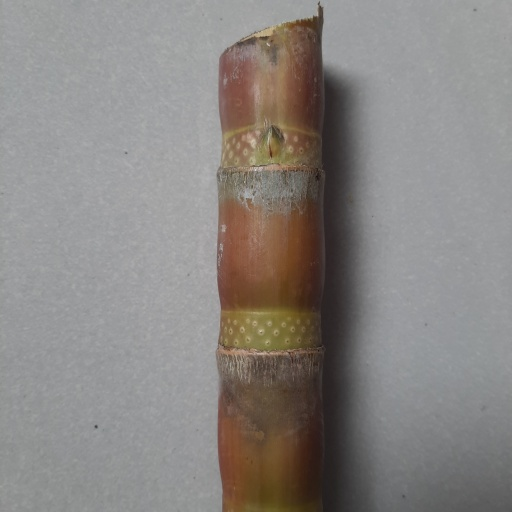Bud: (257, 125, 286, 163)
